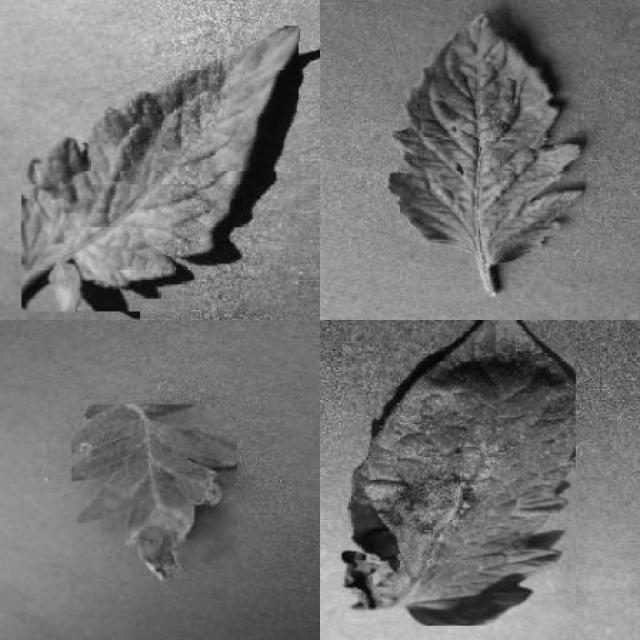Late Blight: (342, 320, 577, 626), (72, 405, 237, 582)
Leaf Mold: (22, 26, 299, 311)
Mosaic Virus: (389, 9, 586, 262)
